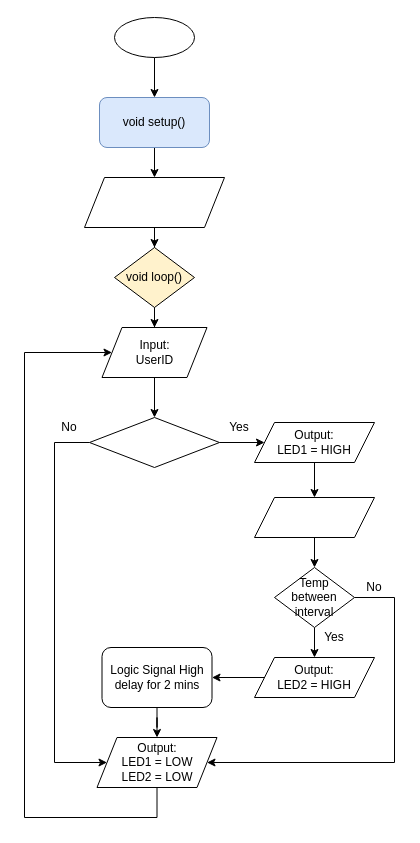
Some shapes in this 420 by 843 pixel diagram are drawn without their labels. The shapes that lost their labels are listed below. From the top down, each one's centre as x and y in pixels, then its label:
At point 154,37: "Start".
At point 154,202: "Output: LED1 blink 3 times".
At point 154,442: "UserID == Acess".
At point 314,517: "input: Temp".
